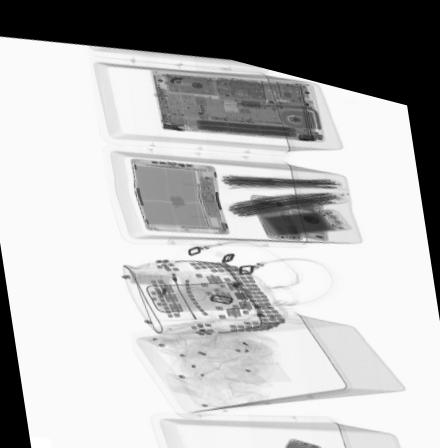Powerbank: (260, 189, 356, 223)
